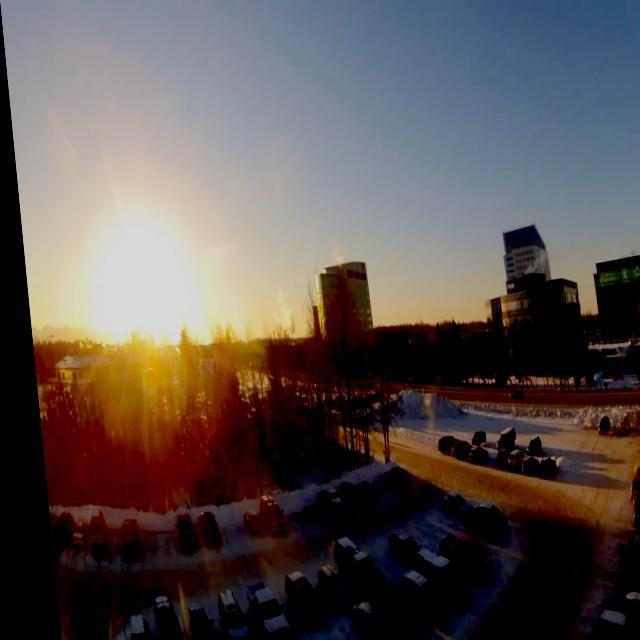Fire: (520, 250, 548, 272)
